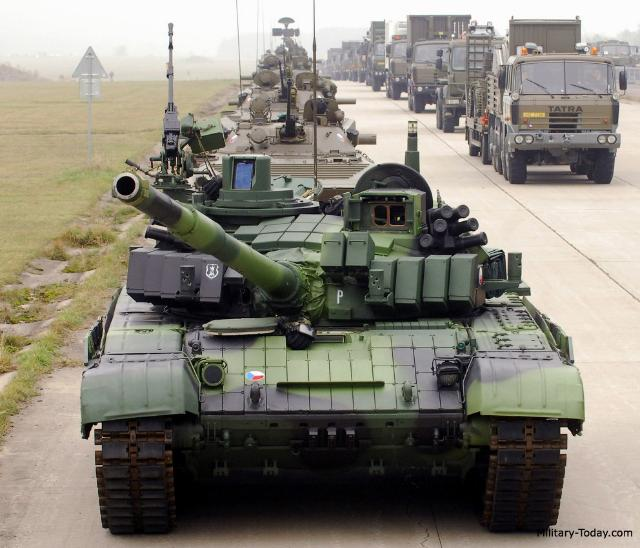other: (110, 71, 112, 81)
tank: (93, 170, 564, 524)
